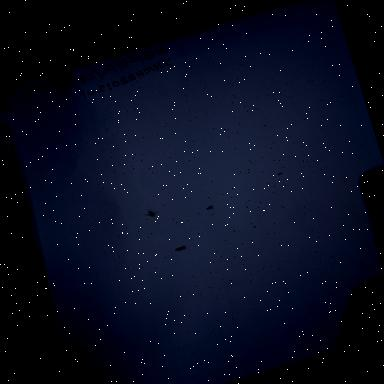pbw: (142, 205, 160, 220), (173, 244, 187, 252)
